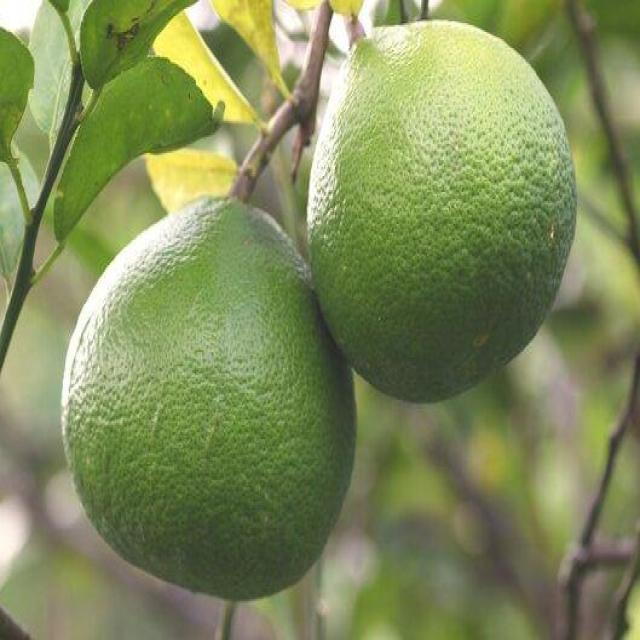Jeruk Belum Matang: (58, 192, 357, 604), (306, 21, 577, 404)
